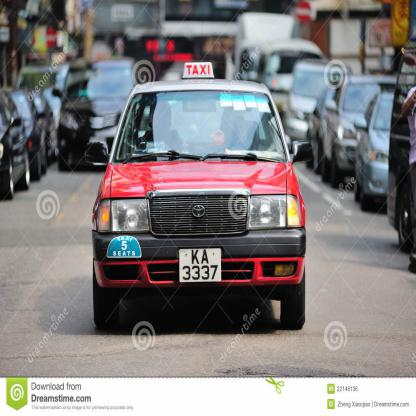taxi: (87, 52, 314, 350)
